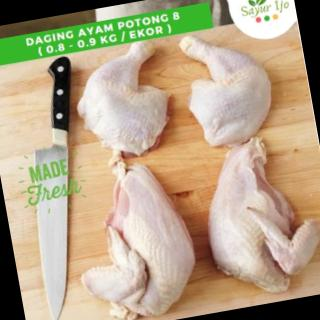Ayam: (61, 150, 208, 320), (190, 127, 320, 306), (67, 39, 183, 171), (176, 22, 284, 156)
